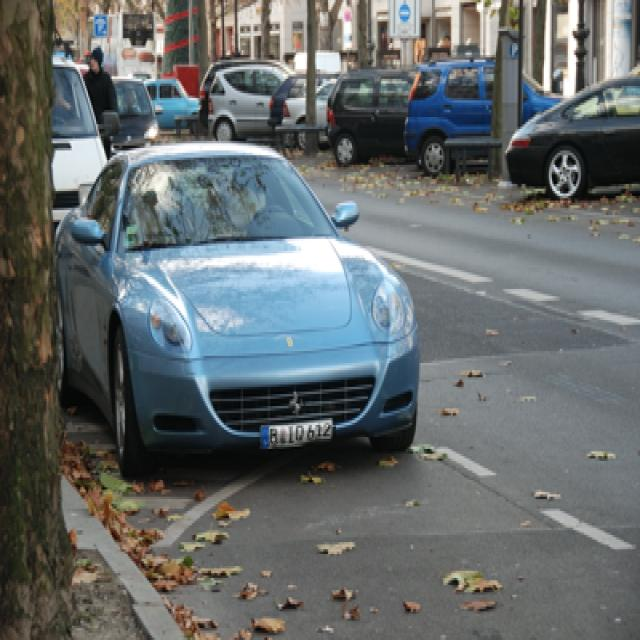licence: (258, 425, 336, 447)
